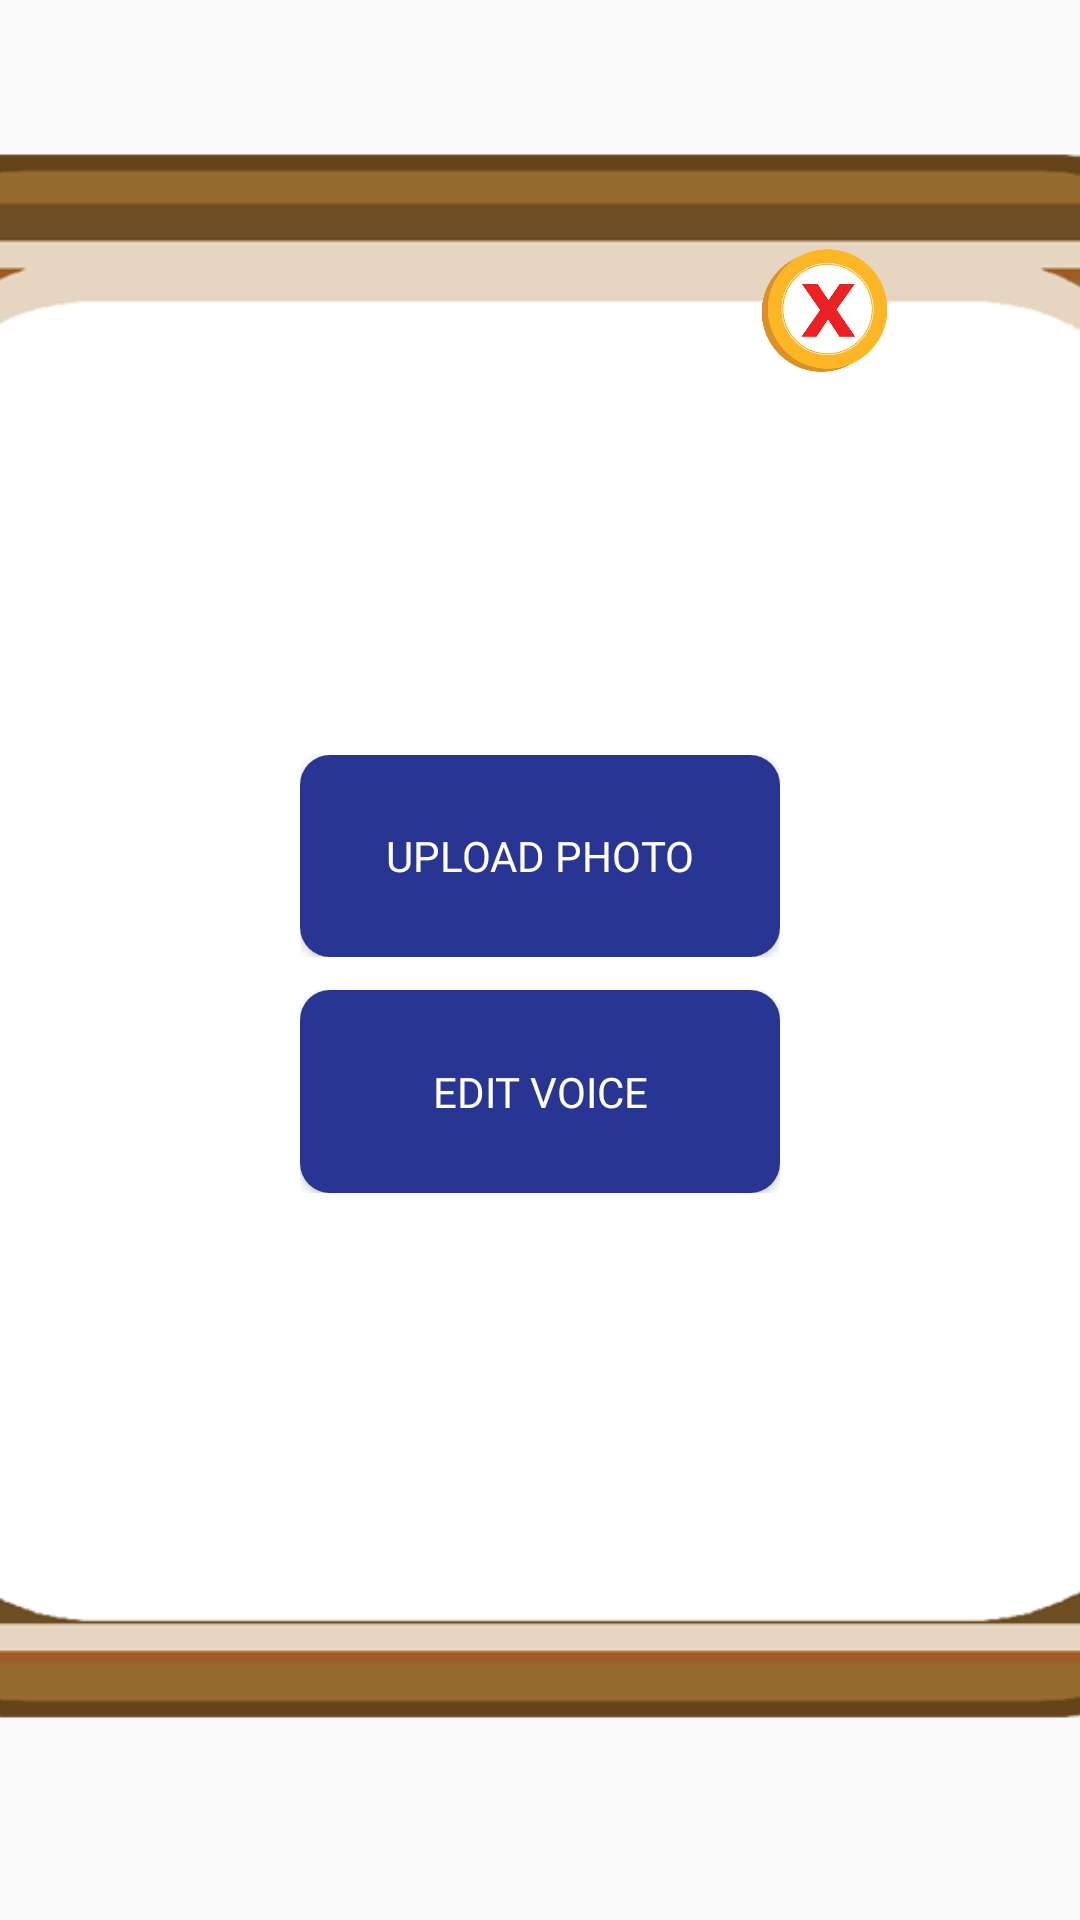

Icons on this 1080×1920 Android screen, each with the point to tap as point (x, y):
canclebtn: point (825, 309)
